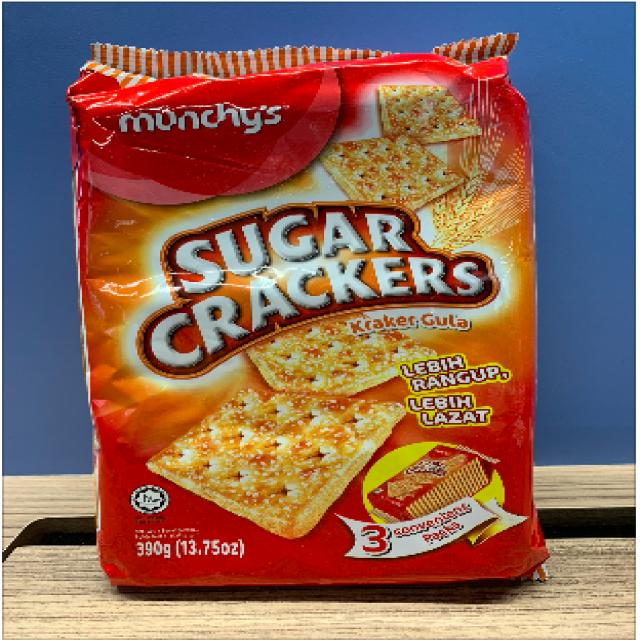object_name: (78, 64, 532, 584)
